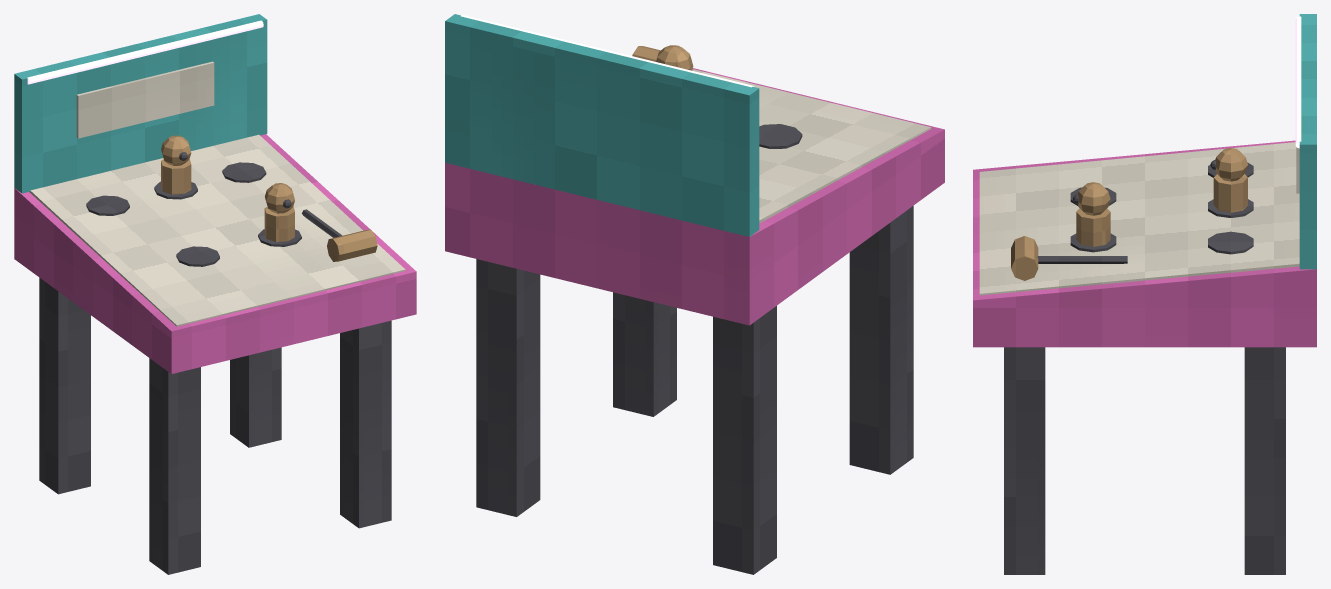
The model's file is three-d-retro-arcade-and-mall-1989-retro-arcade-and-mall-1989-whack-a-mole-0107eb83.glb.
3 views of the same model, side by side, from view 1: azimuth 30°, elevation 25°; view 2: azimuth 150°, elevation 25°; view 3: azimuth 270°, elevation 25° (orthographic). The views are drawn at different scales.
Parts seen in each view (by area): view 1: whack-a-mole; view 2: whack-a-mole; view 3: whack-a-mole.
Part boxes in pixels (box(x1,y1,x2,y2)): whack-a-mole: box(14, 14, 416, 574); whack-a-mole: box(445, 14, 944, 574); whack-a-mole: box(973, 14, 1316, 574).
Bounding box in the file's own units: 0.9 × 1.4 × 1.
Materials: 6 (5 with a texture image).
